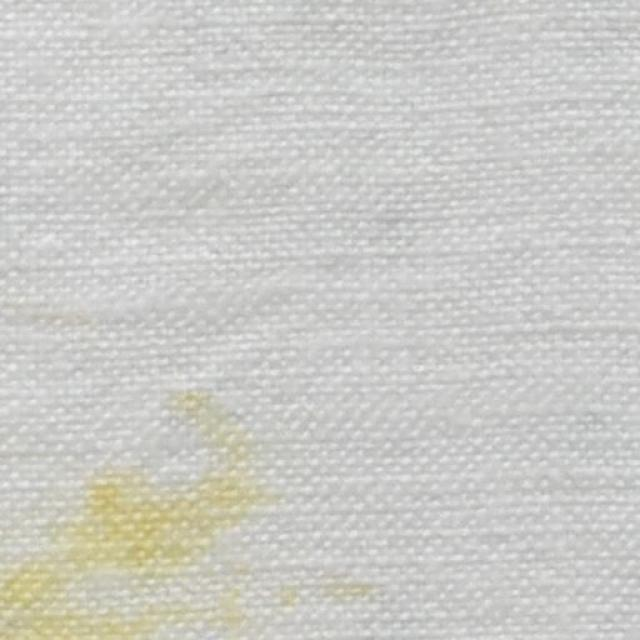Stain: (0, 392, 281, 639)
